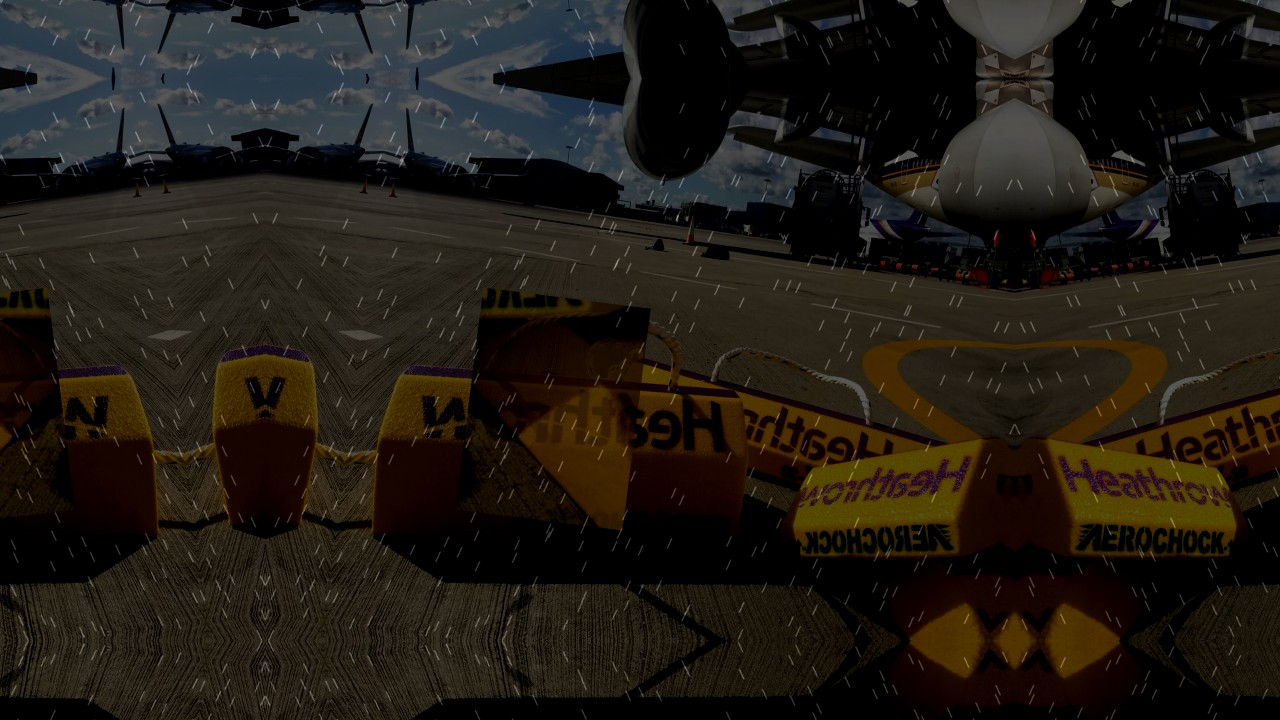chock: (365, 342, 760, 585), (611, 355, 961, 510), (455, 288, 651, 531), (775, 410, 1013, 586), (1017, 410, 1255, 586), (0, 342, 165, 585), (1069, 355, 1280, 510), (0, 288, 75, 531), (866, 537, 1000, 641), (1030, 537, 1164, 641), (866, 641, 1000, 720), (1030, 641, 1164, 720), (775, 696, 1013, 720), (1017, 696, 1255, 720)
